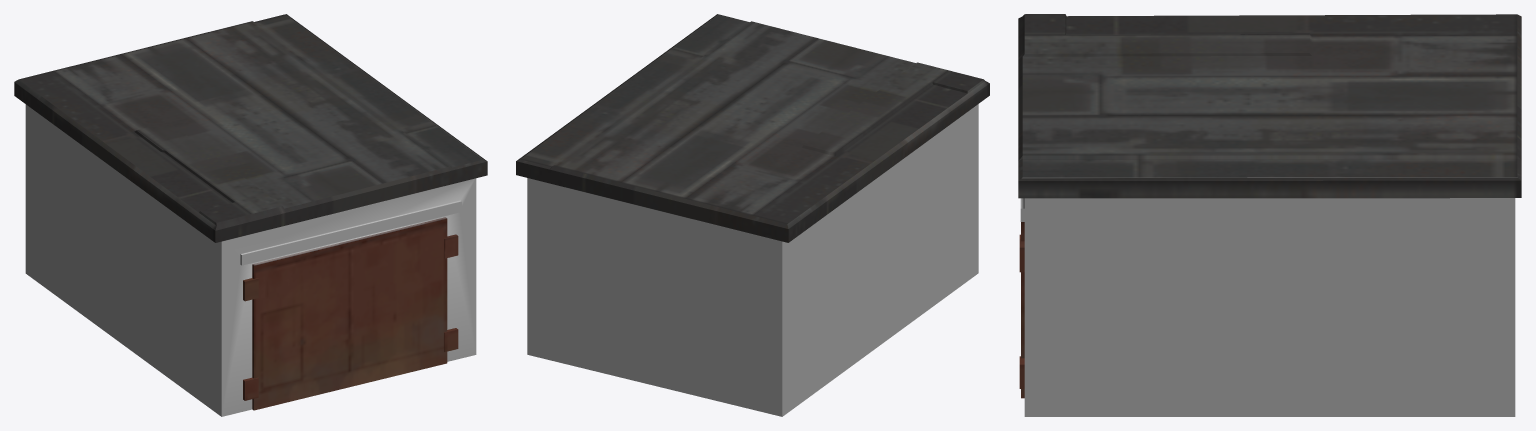
File: bz_garage_03.fbx
The picture shows the model from 3 angles, left to right: view 1: azimuth 30°, elevation 25°; view 2: azimuth 150°, elevation 25°; view 3: azimuth 270°, elevation 25°; orthographic projection. The views are drawn at different scales.
Visible parts, largest first — view 1: bz_garage_03; view 2: bz_garage_03; view 3: bz_garage_03.
Part boxes in pixels (x1,y1,x2,y2): bz_garage_03: [14, 14, 487, 416]; bz_garage_03: [516, 14, 989, 416]; bz_garage_03: [1018, 14, 1521, 416].
Size of the model in its own units: 4.81 by 3.32 by 6.16.
